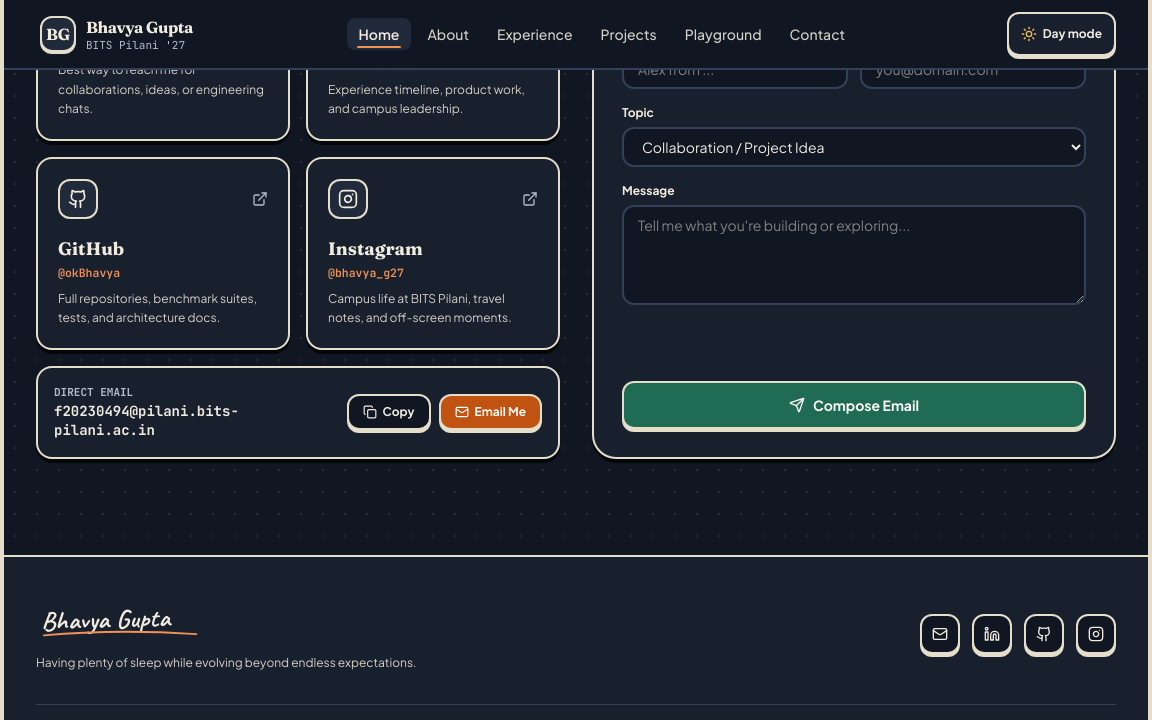
Test: Bhavya Gupta Portfolio › sanitizes contact inputs, validates empty submissions, and prepares Gmail + mailto compose drafts
Later steps or results of the test are not shown.
Click the button "Compose Email": point(854, 405) x1=622 y1=381 x2=1086 y2=429
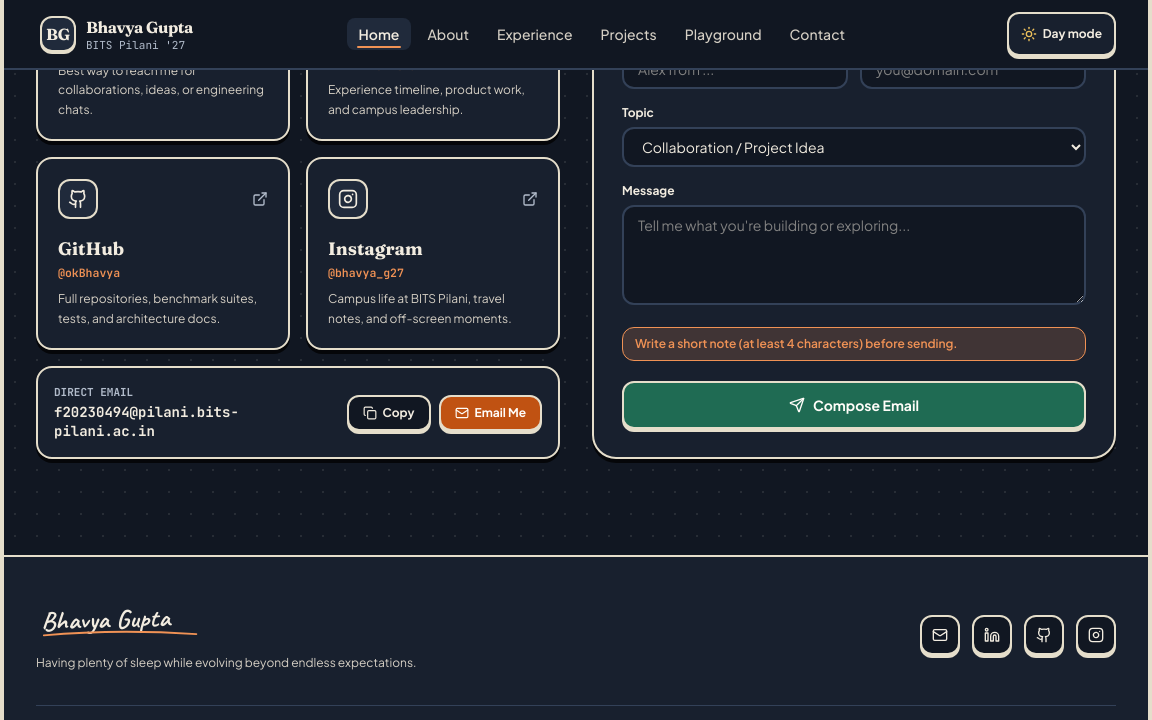
Now the message shows "at least 4 characters", box x1=635 y1=336 x2=958 y2=351
